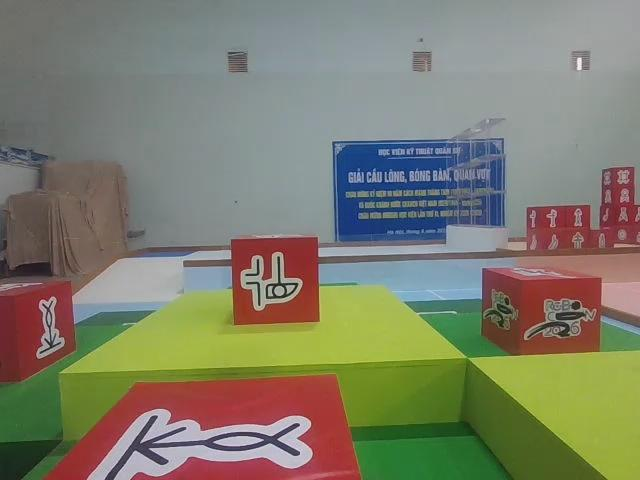R1: (478, 261, 606, 358)
R2 Real: (44, 370, 365, 480), (229, 235, 324, 325), (1, 282, 79, 373)
